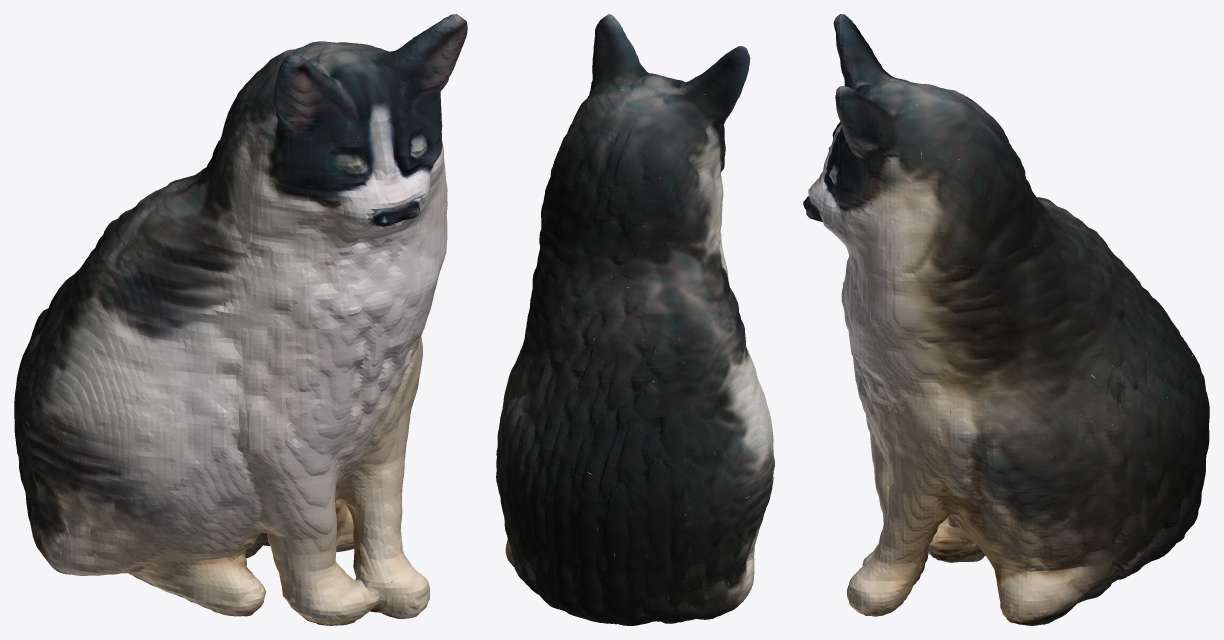
File: bigode_r256.glb
The picture shows the model from 3 angles, left to right: view 1: azimuth 30°, elevation 25°; view 2: azimuth 150°, elevation 25°; view 3: azimuth 270°, elevation 25°; orthographic projection. The views are drawn at different scales.
Visible parts, largest first — view 1: geometry_0; view 2: geometry_0; view 3: geometry_0.
Part boxes in pixels (x1,y1,x2,y2): geometry_0: (14,14,467,625); geometry_0: (496,14,774,625); geometry_0: (803,14,1209,625).
Size of the model in its own units: 0.5511 by 0.9611 by 0.6521.
1 material, 1 textured.
